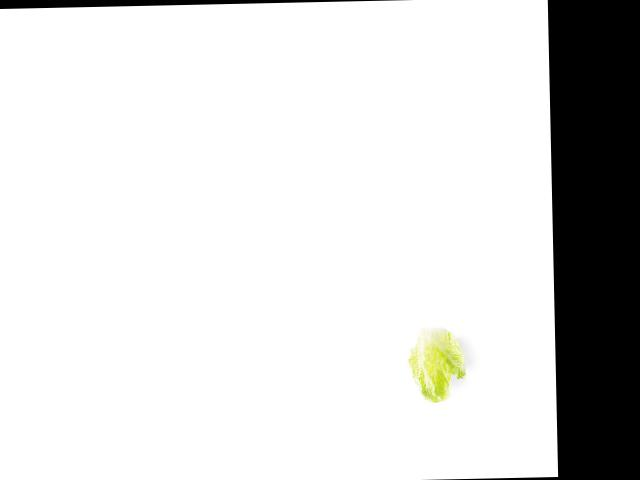lettuce: (405, 319, 467, 407)
